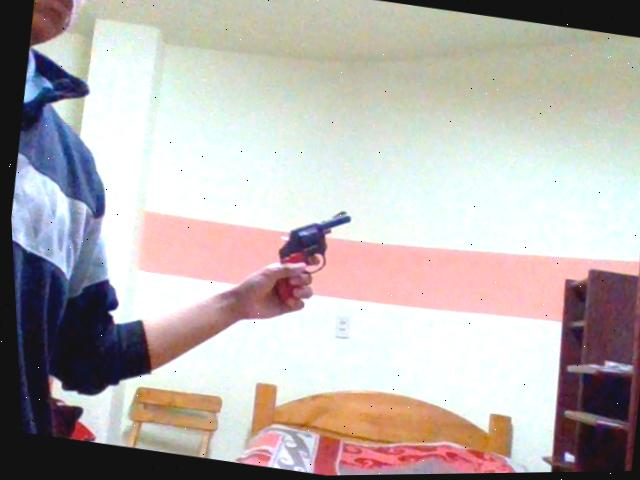pistol: (235, 189, 393, 376)
